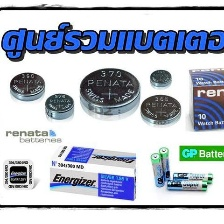battery: (76, 64, 144, 123), (138, 90, 181, 128), (7, 70, 48, 103), (44, 90, 76, 125), (169, 169, 215, 184), (148, 152, 167, 188), (147, 69, 176, 91), (166, 179, 210, 193), (158, 145, 171, 181)
book: (45, 141, 141, 202), (183, 64, 223, 135)
